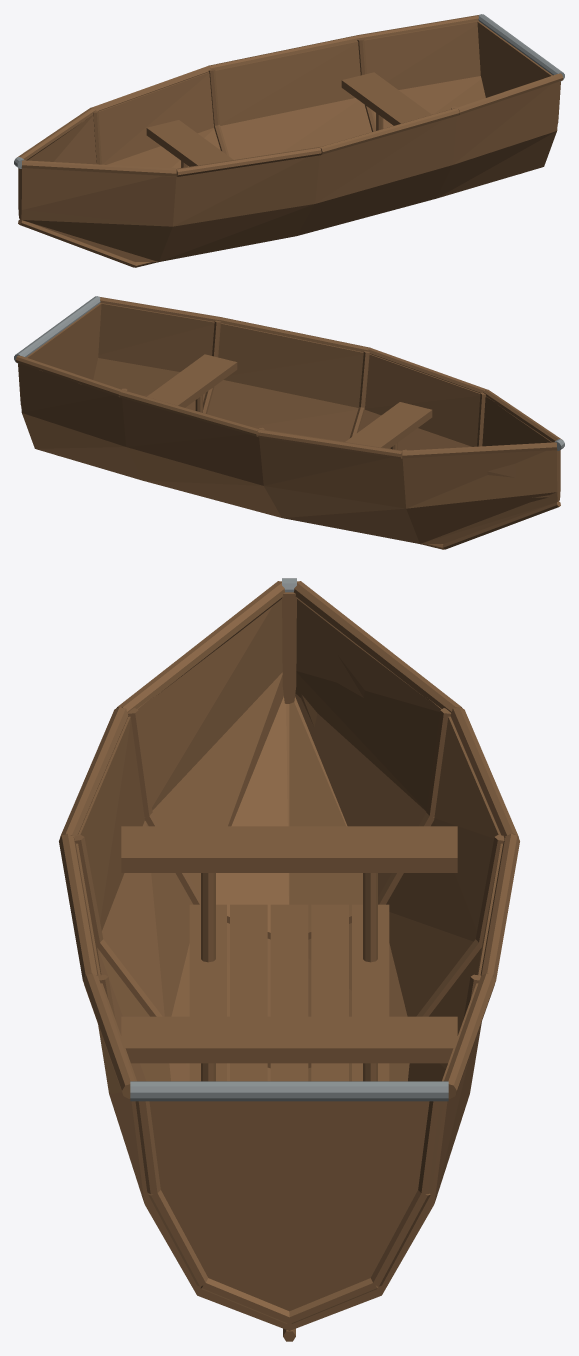
Rendered from boatHull-lv1.glb.
3 renders of one model, top to bottom at view 1: azimuth 30°, elevation 25°; view 2: azimuth 150°, elevation 25°; view 3: azimuth 270°, elevation 25°, orthographic. The views are drawn at different scales.
Visible parts, largest first — view 1: outer-hull-strake-6, inner-hull-strake-1, outer-hull-strake-5, inner-hull-strake-2, continuous-starboard-gunwale (×4), transverse-timber-bench (×2), continuous-port-gunwale (×4), flat-transom, transom-rim, rising-bow-keel, interior-frame-2, outer-hull-strake-4 (+3 smaller); view 2: outer-hull-strake-1, inner-hull-strake-6, outer-hull-strake-2, inner-hull-strake-5, continuous-port-gunwale (×4), transverse-timber-bench (×2), continuous-starboard-gunwale (×4), flat-transom, transom-rim, rising-bow-keel, interior-frame-2, outer-hull-strake-3 (+3 smaller); view 3: flat-transom, transverse-timber-bench (×2), inner-hull-strake-6, inner-hull-strake-5, inner-hull-strake-1, inner-hull-strake-2, continuous-port-gunwale (×4), continuous-starboard-gunwale (×4), inner-hull-strake-3, inner-hull-strake-4, interior-frame-4, transom-rim (+12 smaller).
Part boxes in pixels (x1,y1,x2,y2): outer-hull-strake-6: (21, 81, 560, 226); inner-hull-strake-1: (27, 22, 480, 164); outer-hull-strake-5: (21, 131, 556, 261); inner-hull-strake-2: (107, 76, 485, 168); continuous-starboard-gunwale (×4): (21, 73, 563, 176); transverse-timber-bench (×2): (146, 72, 431, 166); continuous-port-gunwale (×4): (17, 14, 479, 160); flat-transom: (477, 21, 552, 97); transom-rim: (478, 14, 564, 81); rising-bow-keel: (18, 219, 136, 267); interior-frame-2: (208, 69, 319, 156); outer-hull-strake-4: (32, 223, 157, 261); outer-hull-strake-1: (18, 363, 557, 508); inner-hull-strake-6: (98, 304, 551, 446); outer-hull-strake-2: (22, 413, 557, 543); inner-hull-strake-5: (93, 358, 471, 450); continuous-port-gunwale (×4): (15, 355, 557, 458); transverse-timber-bench (×2): (147, 354, 432, 448); continuous-starboard-gunwale (×4): (99, 296, 561, 442); flat-transom: (26, 303, 101, 379); transom-rim: (14, 296, 100, 363); rising-bow-keel: (442, 501, 560, 549); interior-frame-2: (259, 351, 370, 438); outer-hull-strake-3: (421, 503, 553, 543); flat-transom: (131, 1101, 447, 1330); transverse-timber-bench (×2): (121, 826, 457, 1063); inner-hull-strake-6: (80, 599, 282, 974); inner-hull-strake-5: (97, 672, 283, 1081); inner-hull-strake-1: (296, 599, 499, 974); inner-hull-strake-2: (295, 672, 481, 1081); continuous-port-gunwale (×4): (294, 581, 519, 1098); continuous-starboard-gunwale (×4): (59, 581, 284, 1098); inner-hull-strake-3: (289, 696, 409, 1081); inner-hull-strake-4: (169, 696, 289, 1081); interior-frame-4: (135, 1101, 443, 1323); transom-rim: (130, 1081, 448, 1101).
Size of the model in its own units: 2 by 0.5135 by 0.7846.
